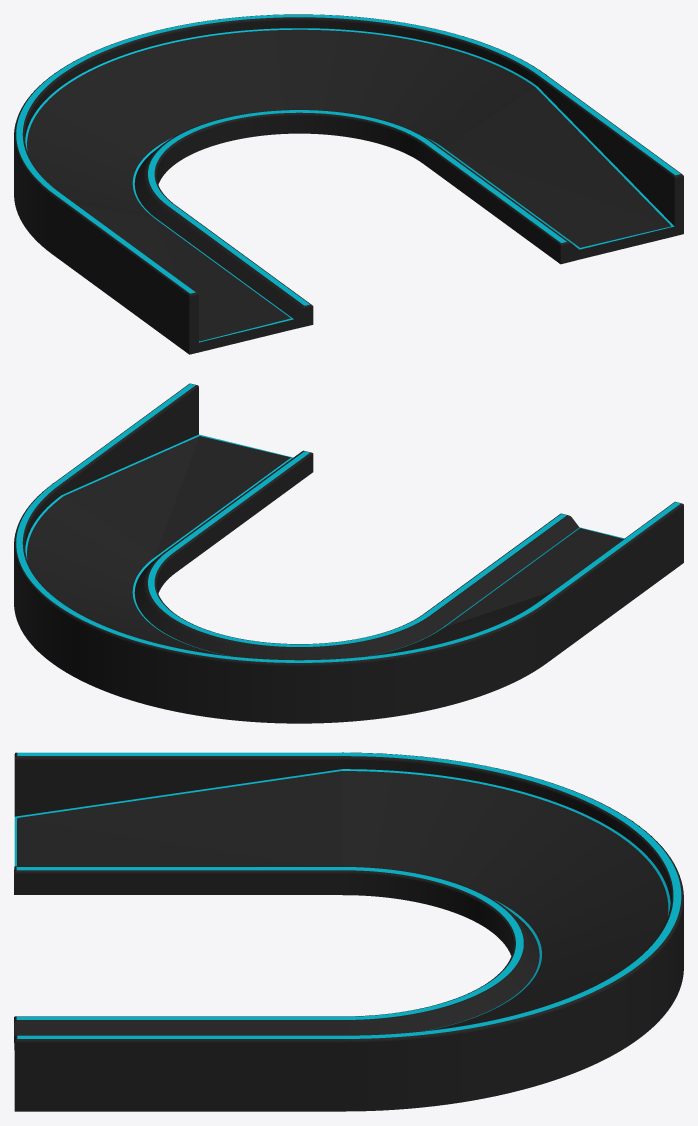
The model's file is Pumptrack.fbx.
3 views of the same model, one above another, from view 1: azimuth 30°, elevation 25°; view 2: azimuth 150°, elevation 25°; view 3: azimuth 270°, elevation 25° (orthographic). The views are drawn at different scales.
Parts seen in each view (by area): view 1: PumpTrackSurface, PumpTrack; view 2: PumpTrack, PumpTrackSurface; view 3: PumpTrack, PumpTrackSurface.
Boxes of the visible parts, left/top/right/bottom form: PumpTrackSurface: left=27, top=29, right=670, bottom=341; PumpTrack: left=14, top=14, right=683, bottom=354; PumpTrack: left=14, top=383, right=683, bottom=723; PumpTrackSurface: left=27, top=436, right=623, bottom=655; PumpTrack: left=14, top=752, right=683, bottom=1111; PumpTrackSurface: left=17, top=771, right=668, bottom=1030.
Size of the model in its own units: 260 by 30 by 255.
